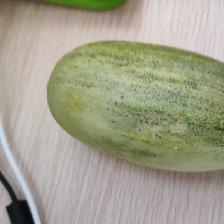gua: (49, 45, 221, 162)
